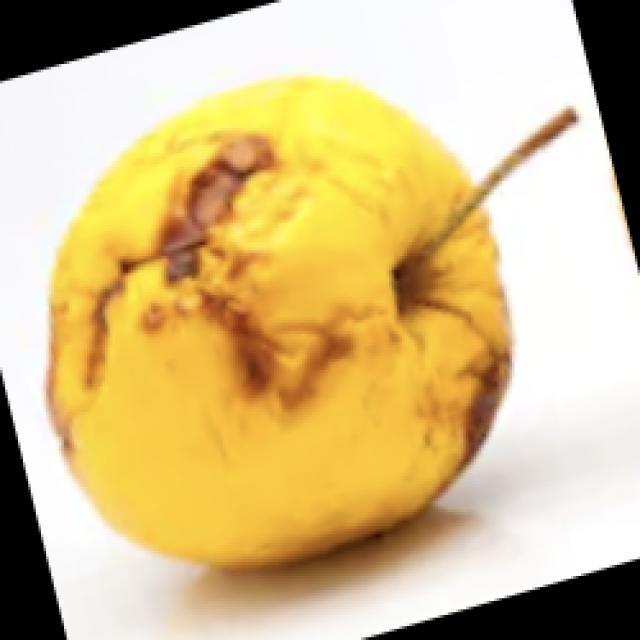Rotten: (39, 77, 524, 568)
